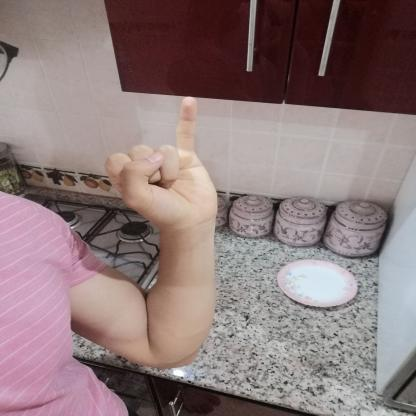MEEM: (88, 88, 229, 237)
